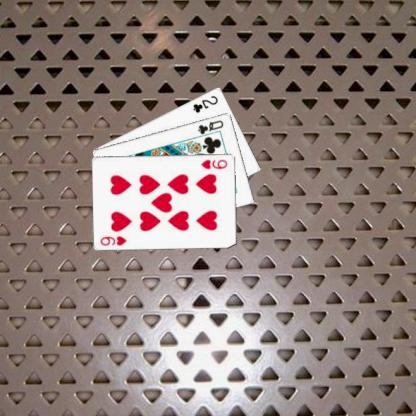2C: (191, 92, 220, 114)
9H: (98, 232, 128, 247), (198, 156, 229, 170)
QC: (195, 117, 225, 135)
